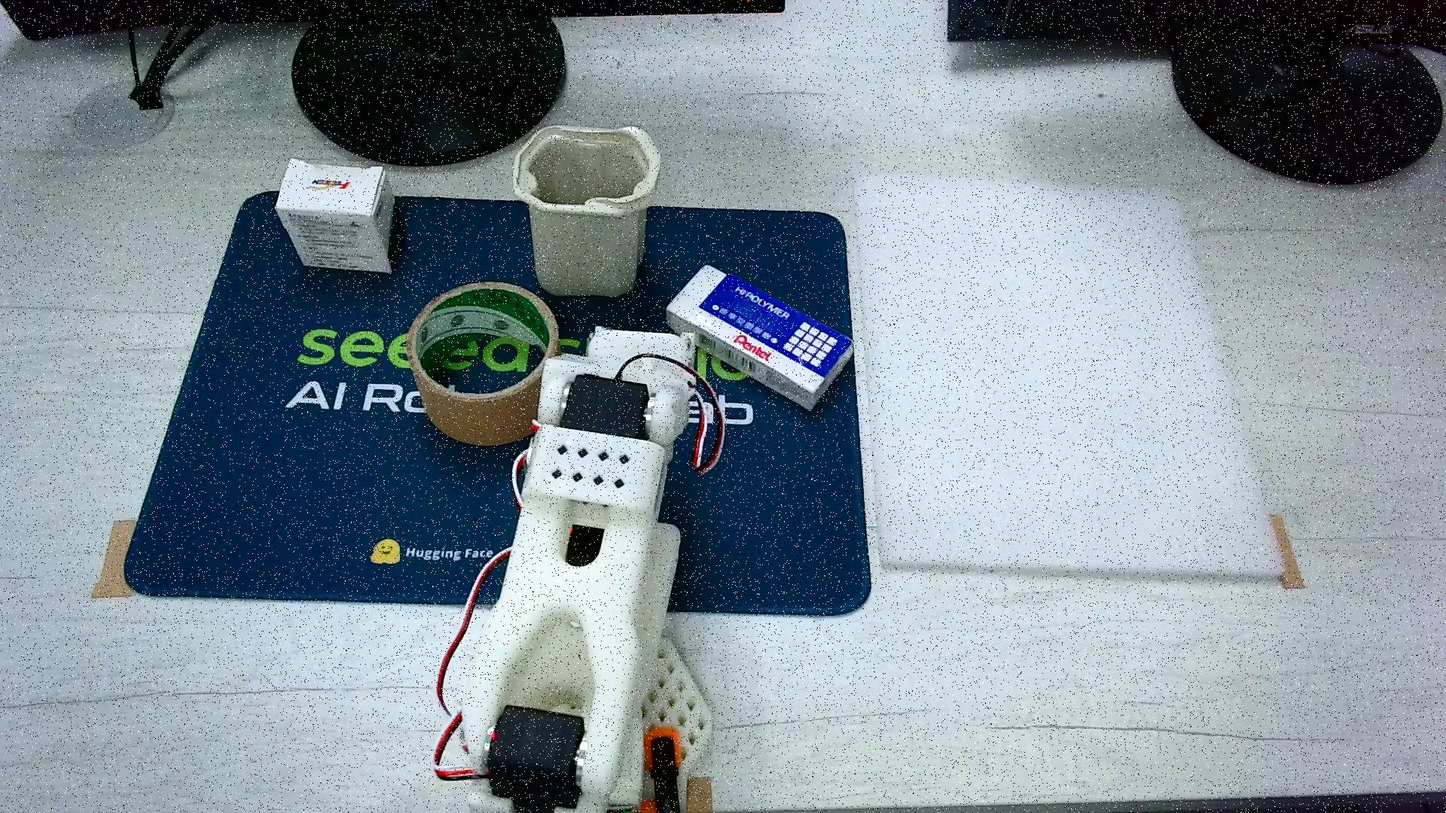eraser: (275, 159, 397, 272)
